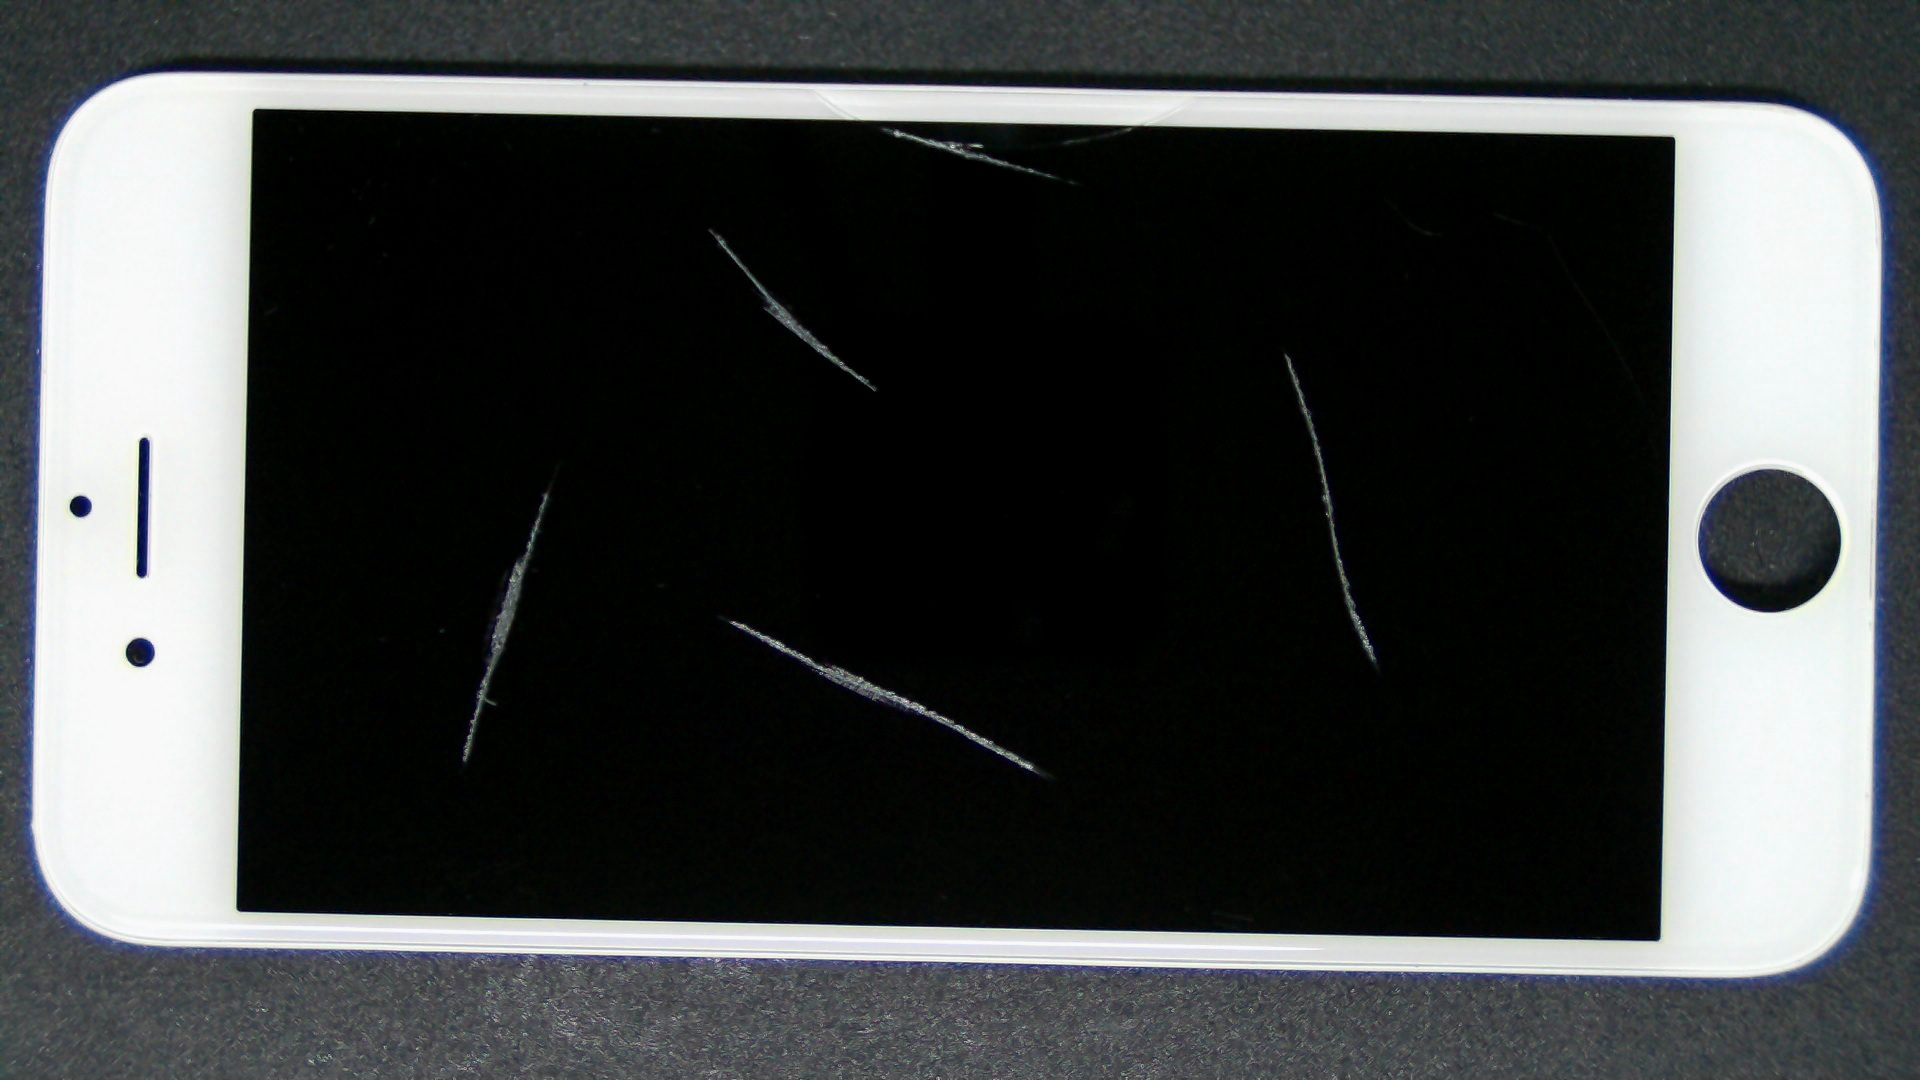oil: (644, 175, 1920, 529), (364, 309, 1091, 928), (274, 245, 822, 737), (356, 113, 1065, 343), (443, 62, 1324, 191)
